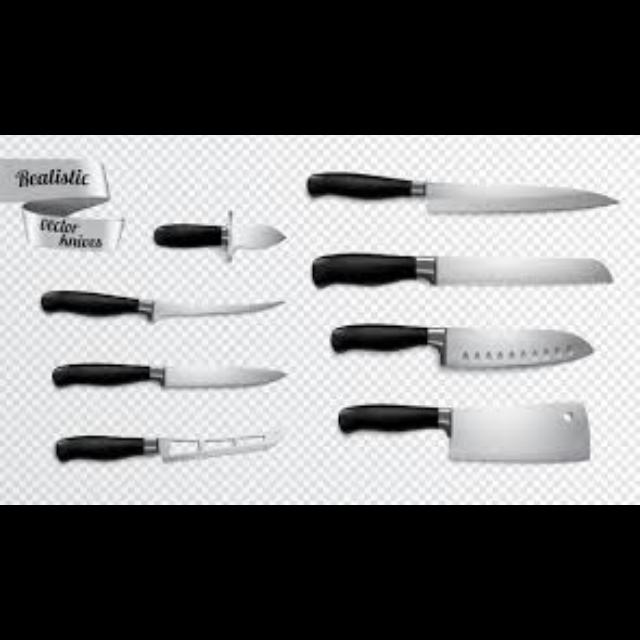knife: (336, 400, 590, 462), (306, 170, 618, 214), (330, 322, 592, 368), (311, 253, 614, 287), (39, 289, 284, 321), (152, 209, 286, 261), (54, 432, 280, 462), (50, 361, 286, 389)
